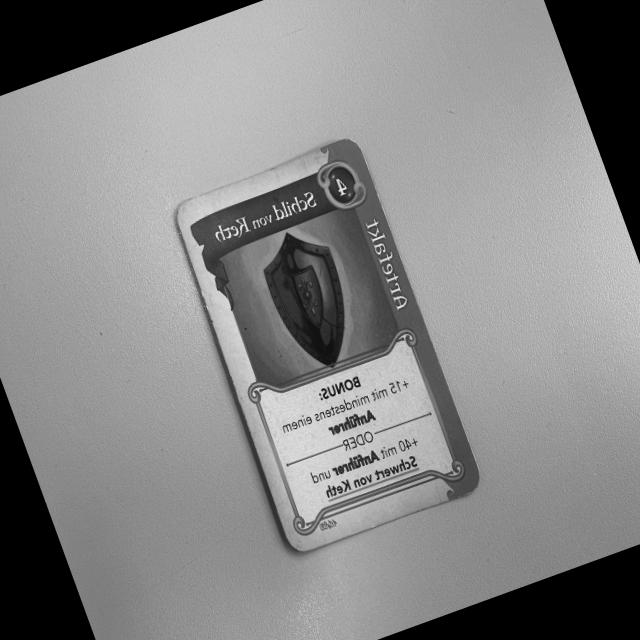Shield Of Keth: (168, 131, 490, 564)
